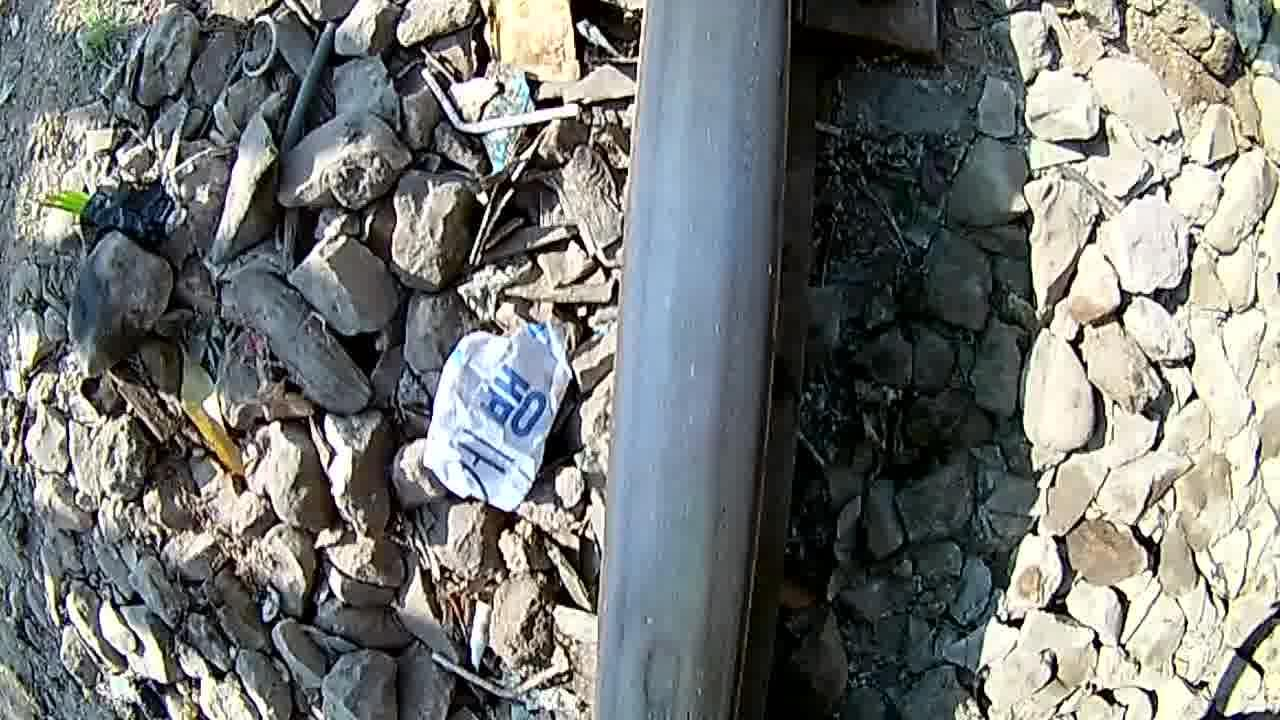bolt_missing: (598, 615, 748, 720)
